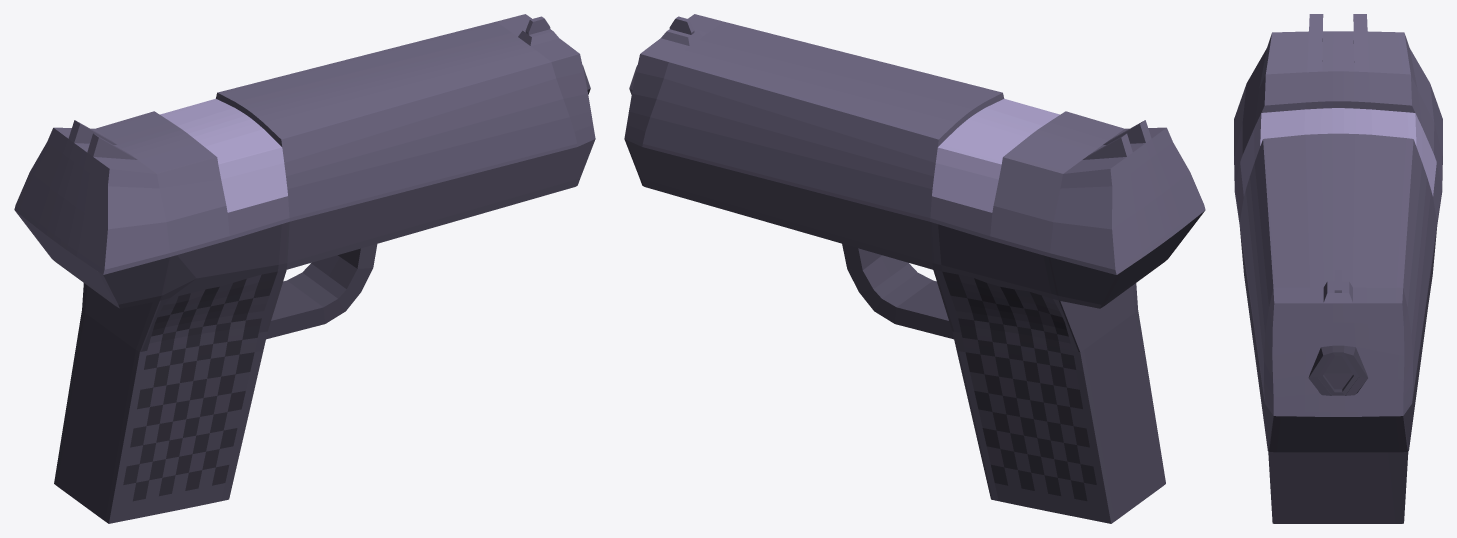
The model's file is gun.fbx.
The picture shows the model from 3 angles, left to right: view 1: azimuth 30°, elevation 25°; view 2: azimuth 150°, elevation 25°; view 3: azimuth 270°, elevation 25°; orthographic projection. The views are drawn at different scales.
Parts seen in each view (by area): view 1: gun; view 2: gun; view 3: gun.
Part boxes in pixels (box(x1,y1,x2,y2)): gun: box(14, 14, 595, 523); gun: box(624, 14, 1205, 523); gun: box(1234, 14, 1442, 523).
Bounding box in the file's own units: 8.34 × 5.75 × 2.45.
